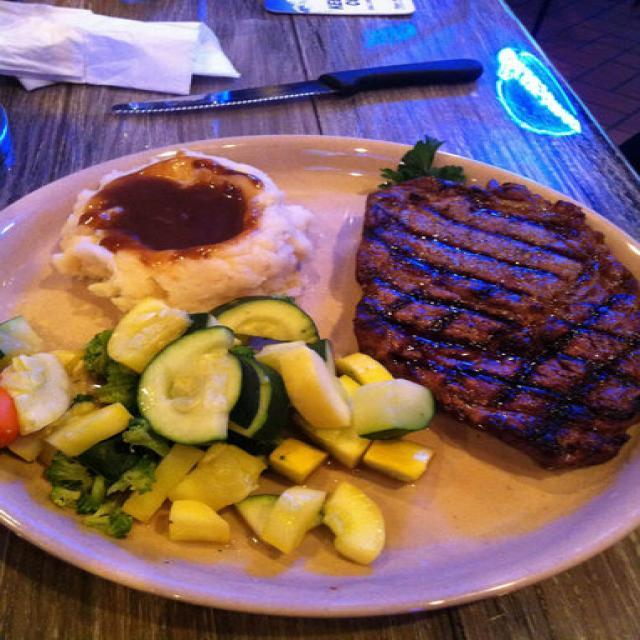Steak: (380, 148, 640, 473)
